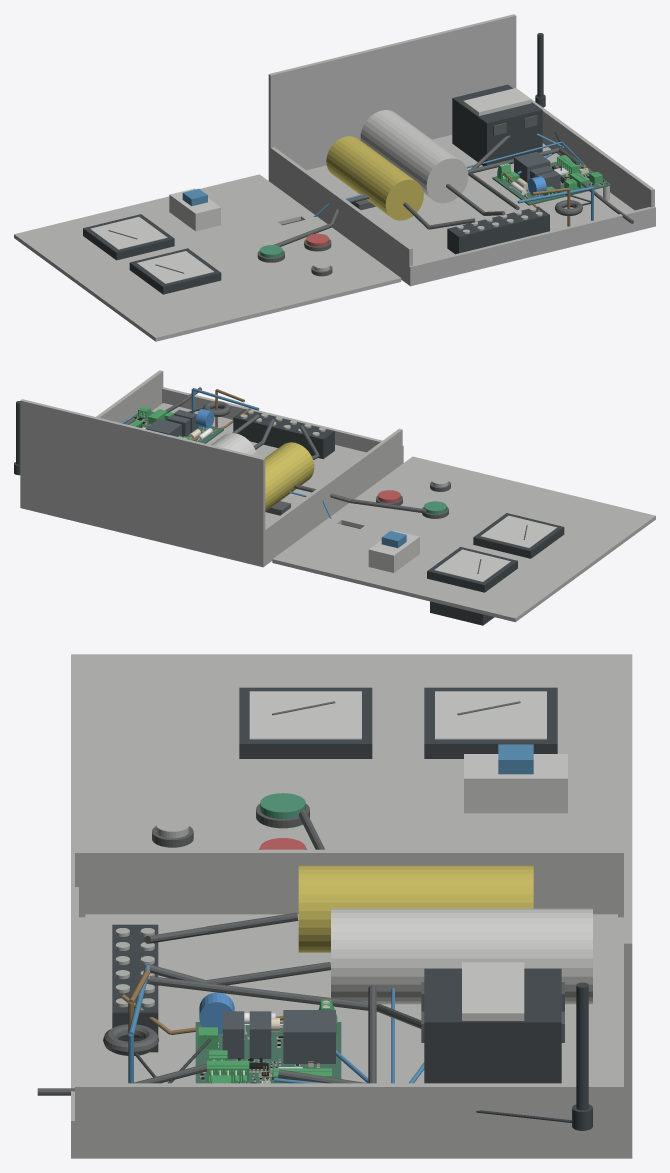
Rendered from starter-assembly-concept.glb.
3 views of the same model, one above another, from view 1: azimuth 30°, elevation 25°; view 2: azimuth 150°, elevation 25°; view 3: azimuth 270°, elevation 25° (orthographic). The views are drawn at different scales.
Visible parts, largest first — view 1: front_cover_left_of_OLED_cutout, enclosure_back_wall, mounting_backplate, enclosure_left_cutaway, retained_white_capacitor, enclosure_front_cutaway, retained_yellow_capacitor, retained_2pole_contactor_body, enclosure_right_cutaway, retained_bottom_terminal_strip, front_cover_right_of_OLED_cutout, front_cover_below_OLED_cutout (+9 smaller); view 2: enclosure_back_wall, front_cover_left_of_OLED_cutout, enclosure_left_cutaway, mounting_backplate, retained_yellow_capacitor, retained_bottom_terminal_strip, enclosure_front_cutaway, front_cover_right_of_OLED_cutout, front_cover_below_OLED_cutout, enclosure_right_cutaway, enclosure_base, retained_analog_meter_face_113 (+7 smaller); view 3: front_cover_left_of_OLED_cutout, enclosure_right_cutaway, mounting_backplate, enclosure_left_cutaway, retained_white_capacitor, retained_2pole_contactor_body, retained_yellow_capacitor, enclosure_base, retained_front_breaker, retained_analog_meter_face_113, retained_analog_meter_face_202, retained_analog_meter_bezel_113 (+15 smaller).
Part boxes in pixels (<box>): front_cover_left_of_OLED_cutout: <box>14,183,365,341</box>; enclosure_back_wall: <box>268,14,516,180</box>; mounting_backplate: <box>306,135,634,264</box>; enclosure_left_cutaway: <box>269,147,412,280</box>; retained_white_capacitor: <box>360,110,468,203</box>; enclosure_front_cutaway: <box>408,206,655,284</box>; retained_yellow_capacitor: <box>326,136,423,220</box>; retained_2pole_contactor_body: <box>452,84,542,166</box>; enclosure_right_cutaway: <box>516,88,654,210</box>; retained_bottom_terminal_strip: <box>447,206,549,254</box>; front_cover_right_of_OLED_cutout: <box>248,174,401,284</box>; front_cover_below_OLED_cutout: <box>282,219,389,290</box>; enclosure_back_wall: <box>20,399,265,565</box>; front_cover_left_of_OLED_cutout: <box>307,465,655,622</box>; enclosure_left_cutaway: <box>265,428,402,561</box>; mounting_backplate: <box>152,403,366,526</box>; retained_yellow_capacitor: <box>265,442,314,511</box>; retained_bottom_terminal_strip: <box>233,409,334,459</box>; enclosure_front_cutaway: <box>162,387,403,463</box>; front_cover_right_of_OLED_cutout: <box>272,456,423,565</box>; front_cover_below_OLED_cutout: <box>341,459,447,528</box>; enclosure_right_cutaway: <box>96,370,163,422</box>; enclosure_base: <box>20,461,403,567</box>; retained_analog_meter_face_113: <box>480,515,557,548</box>; front_cover_left_of_OLED_cutout: <box>71,654,632,857</box>; enclosure_right_cutaway: <box>75,1083,628,1154</box>; mounting_backplate: <box>85,914,617,1083</box>; enclosure_left_cutaway: <box>75,849,623,917</box>; retained_white_capacitor: <box>331,908,592,1004</box>; retained_2pole_contactor_body: <box>424,968,561,1083</box>; retained_yellow_capacitor: <box>298,865,533,952</box>; enclosure_base: <box>71,917,632,1158</box>; retained_front_breaker: <box>464,754,567,813</box>; retained_analog_meter_face_113: <box>249,691,361,739</box>; retained_analog_meter_face_202: <box>435,691,546,739</box>; retained_analog_meter_bezel_113: <box>239,687,372,758</box>.
Size of the model in its own units: 0.57 by 0.139 by 0.286.
